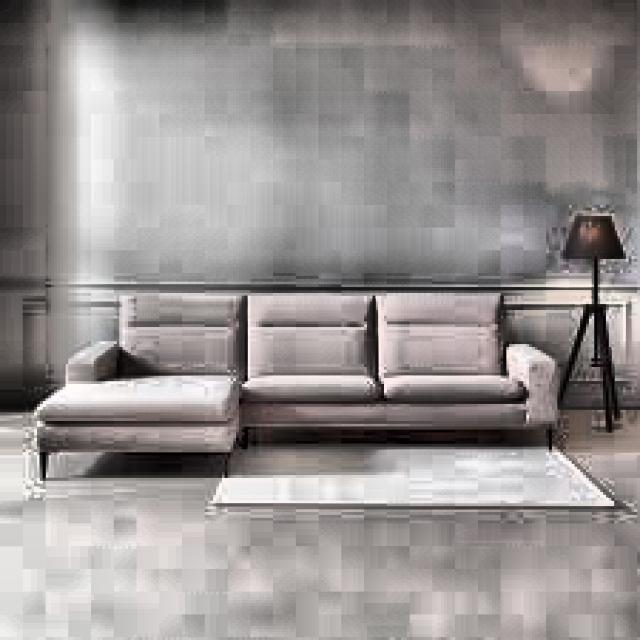sofa: (37, 290, 560, 484)
